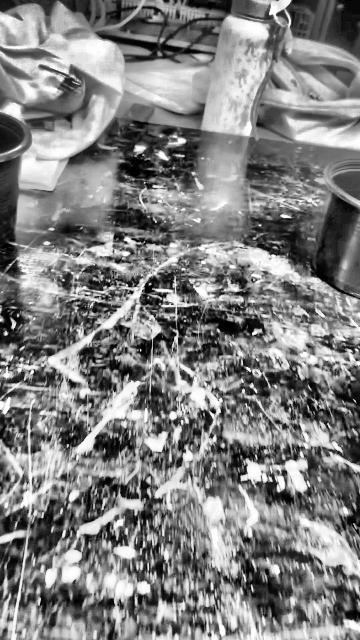pot: (317, 163, 360, 298), (0, 114, 31, 246)
